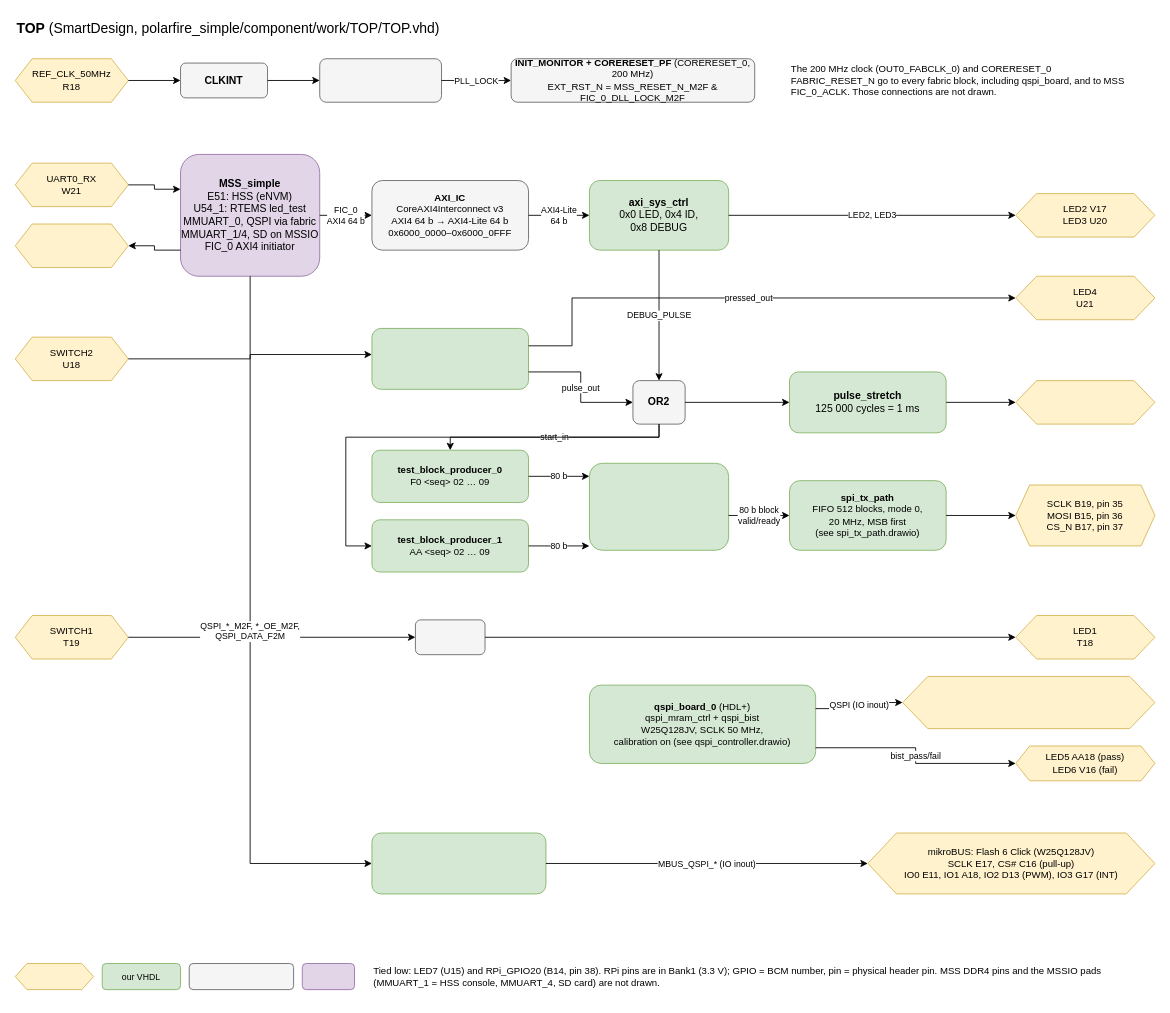
Image size: 1170x1013. Some labels were removed from this diagram. Here are the shapes that lost their labels. From the top down, the centre of each, then its label:
the point at 380,80: PF_CCC_C0 OUT0 200 MHz (single fabric clock)
the point at 71,245: UART0_TX Y21
the point at 450,358: button_debounce 10 ms, active low
the point at 1085,402: DEBUG E13 RPi pin 40 (GPIO21)
the point at 659,506: block_arbiter round-robin, 2 ports
the point at 450,637: INV
the point at 1028,702: SCLK G18 pin 11, CS# F21 pin 13 IO0 F20 15, IO1 E21 16 IO2 F19 18, IO3 A19 22
the point at 458,863: mss_qspi_pads_0 tristate pads, follow the MSS OEs (HSS QSPI boot; reads 25 MHz)
the point at 54,976: FPGA pin
the point at 241,976: Libero core / macro
the point at 328,976: MSS
